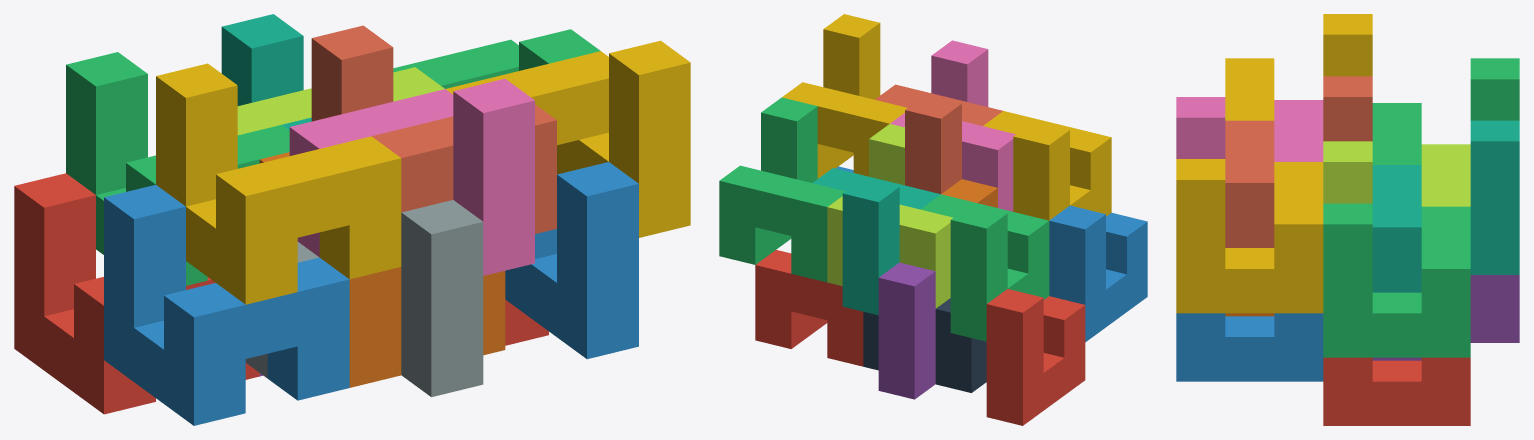
File: tiling.obj
3 renders of one model, left to right at view 1: azimuth 30°, elevation 25°; view 2: azimuth 150°, elevation 25°; view 3: azimuth 270°, elevation 25°, orthographic. The views are drawn at different scales.
Parts seen in each view (by area): view 1: copy_1_domain_4, copy_1_domain_2, copy_2_domain_8, copy_1_domain_1, copy_2_domain_4, copy_2_domain_6, copy_2_domain_2, copy_1_domain_8, copy_1_domain_3, copy_1_domain_6, copy_1_domain_7, copy_2_domain_7 (+2 smaller); view 2: copy_2_domain_7, copy_1_domain_1, copy_1_domain_3, copy_1_domain_2, copy_2_domain_8, copy_1_domain_4, copy_1_domain_7, copy_2_domain_5, copy_1_domain_5, copy_2_domain_3, copy_2_domain_4, copy_1_domain_8 (+2 smaller); view 3: copy_2_domain_7, copy_2_domain_8, copy_1_domain_7, copy_2_domain_6, copy_2_domain_5, copy_1_domain_8, copy_1_domain_4, copy_2_domain_3, copy_1_domain_3, copy_2_domain_4, copy_1_domain_5.
Boxes of the visible parts, x1,y1,x2,y2 form: copy_1_domain_4: [156, 63, 401, 304]; copy_1_domain_2: [104, 184, 349, 425]; copy_2_domain_8: [445, 40, 690, 237]; copy_1_domain_1: [14, 173, 259, 414]; copy_2_domain_4: [289, 78, 534, 275]; copy_2_domain_6: [505, 162, 638, 359]; copy_2_domain_2: [245, 200, 483, 397]; copy_1_domain_8: [311, 25, 556, 233]; copy_1_domain_3: [66, 52, 289, 285]; copy_1_domain_6: [259, 152, 505, 387]; copy_1_domain_7: [221, 14, 311, 130]; copy_2_domain_7: [393, 29, 600, 88]; copy_2_domain_7: [719, 97, 844, 282]; copy_1_domain_1: [986, 289, 1085, 425]; copy_1_domain_3: [920, 194, 1049, 341]; copy_1_domain_2: [1049, 205, 1147, 342]; copy_2_domain_8: [782, 14, 907, 178]; copy_1_domain_4: [983, 111, 1111, 220]; copy_1_domain_7: [812, 168, 940, 315]; copy_2_domain_5: [755, 250, 863, 366]; copy_1_domain_5: [878, 262, 935, 399]; copy_2_domain_3: [827, 124, 953, 308]; copy_2_domain_4: [890, 40, 1015, 211]; copy_1_domain_8: [875, 84, 1002, 193]; copy_2_domain_7: [1323, 203, 1470, 357]; copy_2_domain_8: [1176, 159, 1323, 313]; copy_1_domain_7: [1372, 120, 1519, 292]; copy_2_domain_6: [1176, 313, 1323, 381]; copy_2_domain_5: [1323, 357, 1470, 425]; copy_1_domain_8: [1225, 76, 1372, 247]; copy_1_domain_4: [1225, 14, 1372, 120]; copy_2_domain_3: [1323, 141, 1470, 206]; copy_1_domain_3: [1372, 58, 1519, 164]; copy_2_domain_4: [1176, 97, 1323, 161]; copy_1_domain_5: [1372, 275, 1519, 360].
Bounding box in the file's own units: 9 × 6 × 7.
